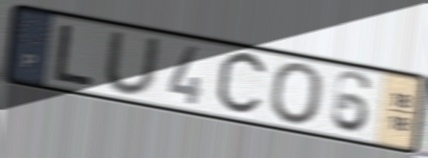4: (166, 44, 204, 106)
6: (329, 70, 374, 138)
C: (212, 49, 271, 119)
L: (51, 21, 97, 88)
O: (267, 61, 326, 128)
U: (102, 29, 163, 99)
